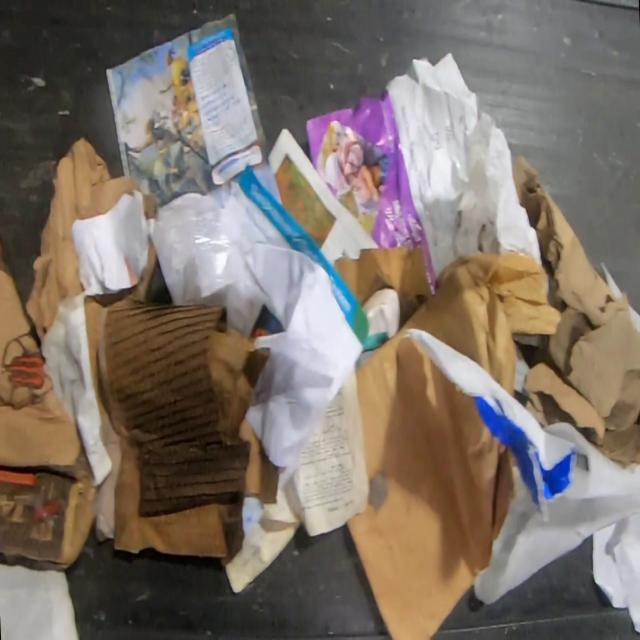cardboard: (344, 329, 516, 640), (95, 301, 278, 560), (512, 153, 640, 464), (0, 266, 95, 569), (24, 135, 157, 348), (400, 249, 561, 398), (84, 229, 157, 414), (332, 247, 432, 329)
soft_plastic: (147, 192, 266, 332)
